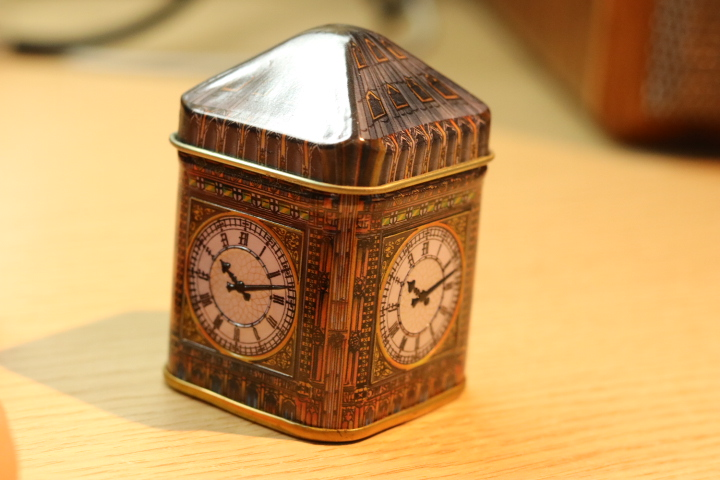Big Ben: (151, 18, 505, 460)
